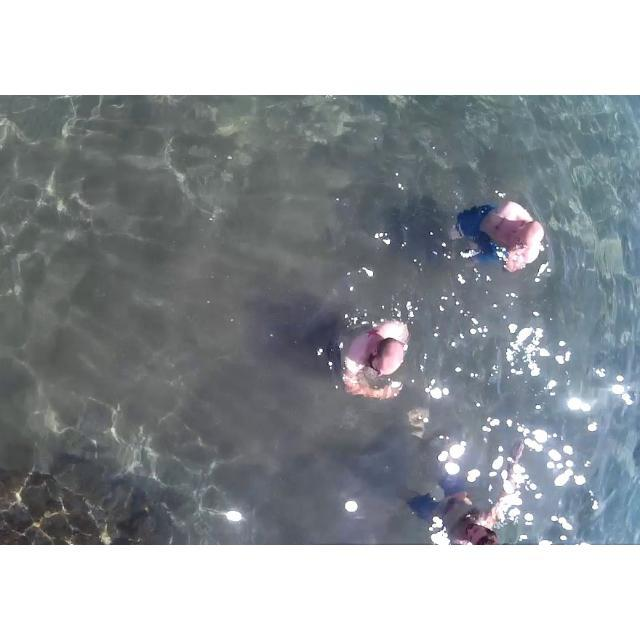human: (448, 181, 548, 278), (330, 308, 420, 403)
